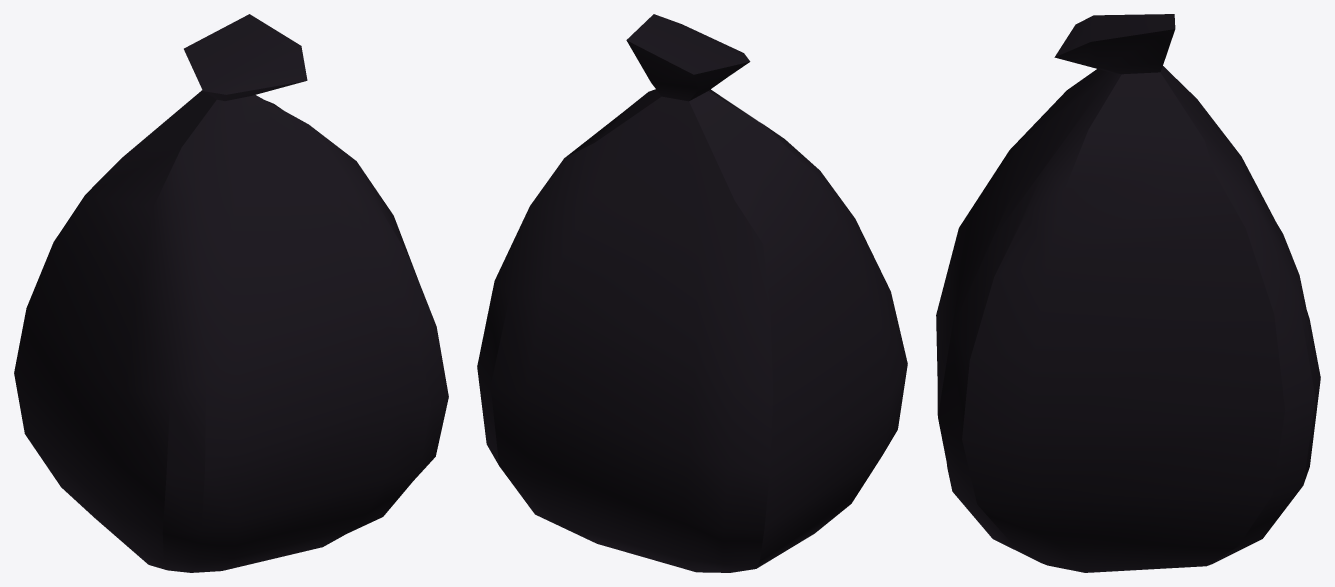
The model's file is TRashbag.fbx.
The picture shows the model from 3 angles, left to right: view 1: azimuth 30°, elevation 25°; view 2: azimuth 150°, elevation 25°; view 3: azimuth 270°, elevation 25°; orthographic projection. The views are drawn at different scales.
Visible parts, largest first — view 1: bag_0; view 2: bag_0; view 3: bag_0.
Boxes of the visible parts, left/top/right/bottom form: bag_0: left=14, top=14, right=448, bottom=572; bag_0: left=477, top=14, right=907, bottom=572; bag_0: left=936, top=14, right=1320, bottom=572.
Bounding box in the file's own units: 96.89 × 149 × 97.33.
1 material, 1 textured.
